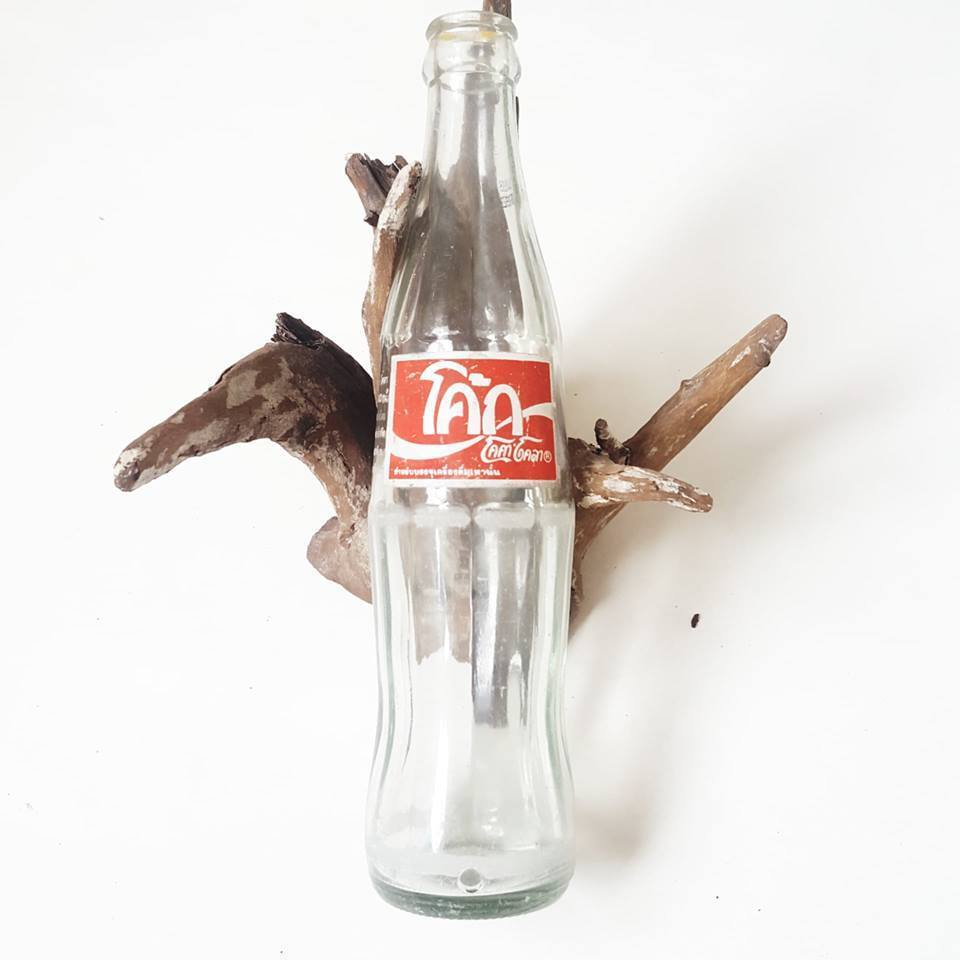glass_bottle: (349, 5, 590, 932)
